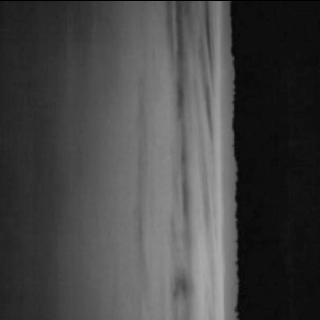Cirrus: (1, 0, 242, 320)
